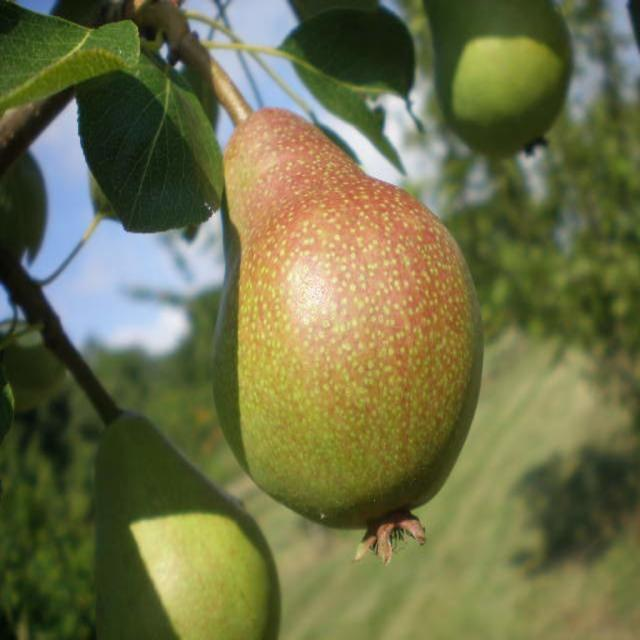pear: (209, 108, 482, 568), (94, 406, 284, 640), (419, 1, 573, 164)
